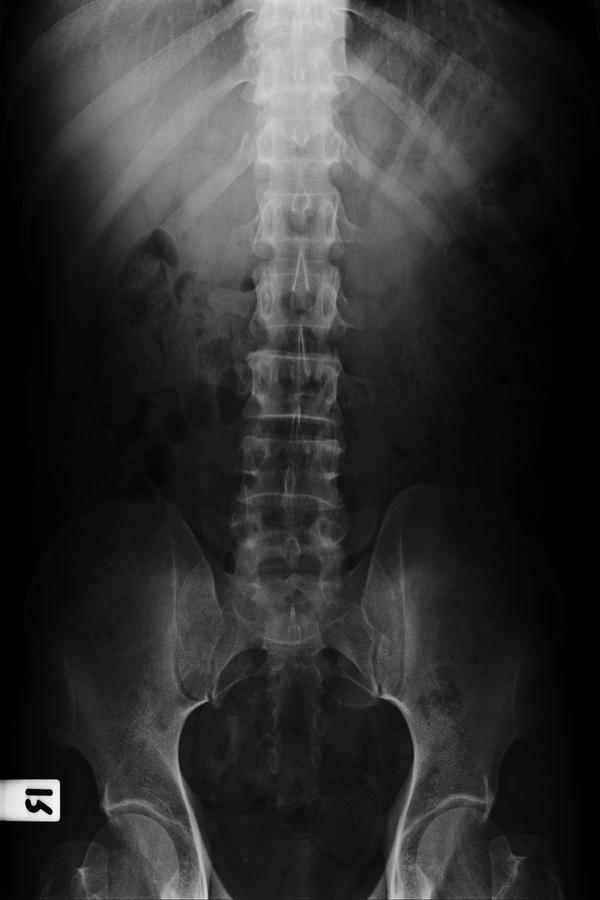lumbar scoliosis: (225, 8, 359, 619)
